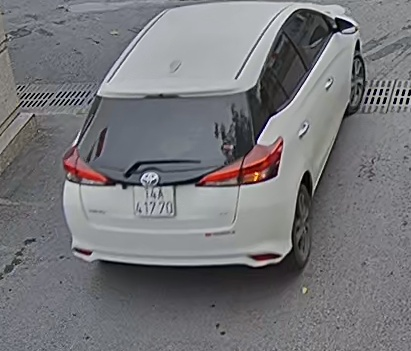vehicle plate: (132, 183, 176, 219)
